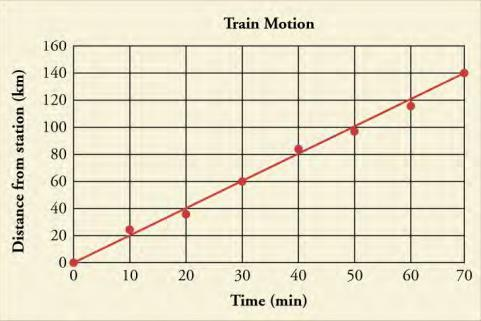axis: (69, 260, 468, 267), (70, 40, 76, 269)
point: (398, 97, 422, 116), (344, 122, 365, 143), (291, 141, 311, 160), (452, 65, 473, 83), (122, 223, 139, 237), (178, 206, 195, 220), (235, 175, 252, 188), (67, 257, 83, 269)
